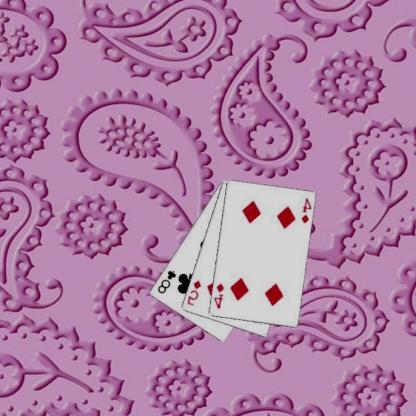4D: (213, 281, 227, 310), (300, 196, 314, 225)
5D: (186, 278, 204, 307)
8C: (156, 268, 179, 296)
